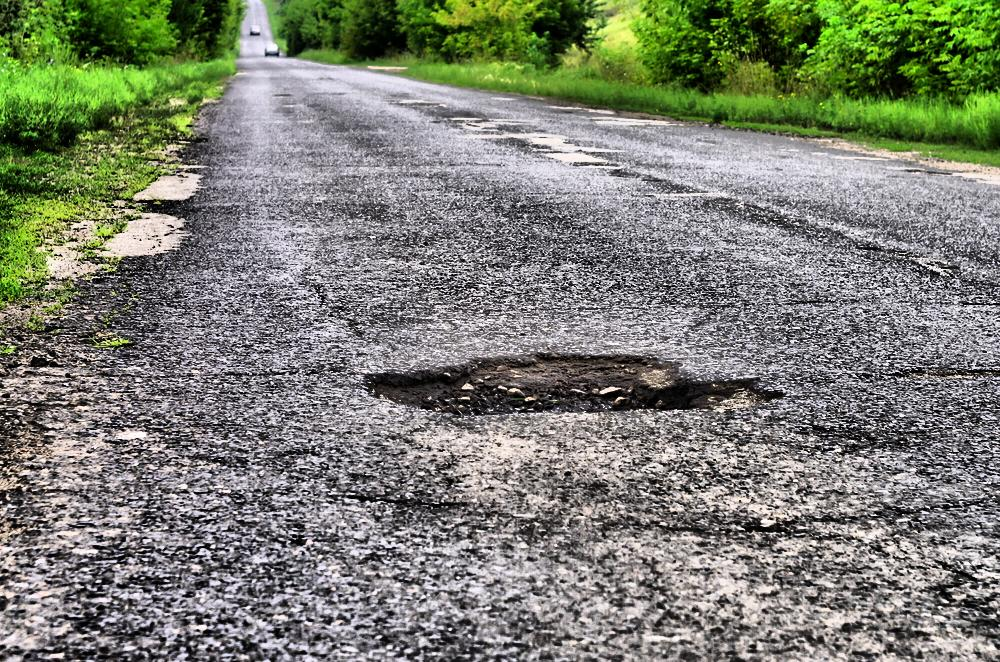pothole: (359, 349, 788, 435)
